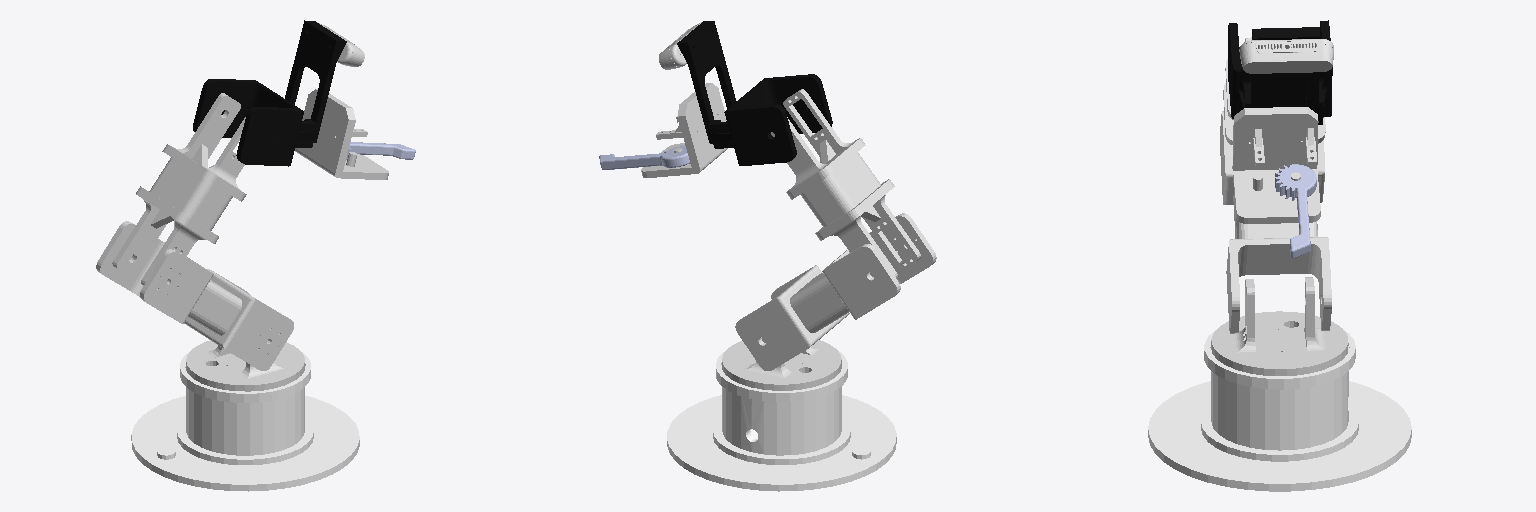
robot.urdf — Reference_Assembly44:
<?xml version="1.0" encoding="utf-8"?>
<!-- This URDF was automatically created by SolidWorks to URDF Exporter! Originally created by Stephen Brawner (brawner@gmail.com) 
     Commit Version: 1.6.0-4-g7f85cfe  Build Version: 1.6.7995.38578
     For more information, please see http://wiki.ros.org/sw_urdf_exporter -->
<robot
  name="Reference_Assembly44">
  <link
    name="base_link">
    <inertial>
      <origin
        xyz="-0.00054420381837245 -0.000172092180119688 0.0289764153009481"
        rpy="0 0 0" />
      <mass
        value="0.74995511898166" />
      <inertia
        ixx="0.00300881122224017"
        ixy="7.04505730019346E-08"
        ixz="3.98409686242448E-06"
        iyy="0.00305676569031836"
        iyz="7.77591095594485E-07"
        izz="0.00471570695756845" />
    </inertial>
    <visual>
      <origin
        xyz="0 0 0"
        rpy="0 0 0" />
      <geometry>
        <mesh
          filename="package://arm_description/meshes/base_link.STL" />
      </geometry>
      <material
        name="">
        <color
          rgba="1 1 1 0.35" />
      </material>
    </visual>
    <collision>
      <origin
        xyz="0 0 0"
        rpy="0 0 0" />
      <geometry>
        <mesh
          filename="package://arm_description/meshes/base_link.STL" />
      </geometry>
    </collision>
  </link>
  <link
    name="Shoulder_R">
    <inertial>
      <origin
        xyz="0.000403078883638784 0.00970799426762278 -0.00104712514433428"
        rpy="0 0 0" />
      <mass
        value="0.154107089212603" />
      <inertia
        ixx="0.000188059857849138"
        ixy="2.92431537638015E-07"
        ixz="7.40368791297859E-07"
        iyy="0.000299228678844809"
        iyz="5.72855168293749E-06"
        izz="0.000169291903518765" />
    </inertial>
    <visual>
      <origin
        xyz="0 0 0"
        rpy="0 0 0" />
      <geometry>
        <mesh
          filename="package://arm_description/meshes/Shoulder_R.STL" />
      </geometry>
      <material
        name="">
        <color
          rgba="0.894117647058823 0.894117647058823 0.894117647058823 1" />
      </material>
    </visual>
    <collision>
      <origin
        xyz="0 0 0"
        rpy="0 0 0" />
      <geometry>
        <mesh
          filename="package://arm_description/meshes/Shoulder_R.STL" />
      </geometry>
    </collision>
  </link>
  <joint
    name="J1"
    type="revolute">
    <origin
      xyz="0 0 0.09"
      rpy="1.5707963267949 0 0.0586972407572865" />
    <parent
      link="base_link" />
    <child
      link="Shoulder_R" />
    <axis
      xyz="0 1 0" />
    <limit
      lower="-2.0944"
      upper="2.0944"
      effort="0"
      velocity="0" />
  </joint>
  <link
    name="Shoulder">
    <inertial>
      <origin
        xyz="-1.53478323106082E-09 0.0844250188331954 3.22156832380707E-05"
        rpy="0 0 0" />
      <mass
        value="0.340539325104864" />
      <inertia
        ixx="0.000556762872289463"
        ixy="4.07473819525691E-12"
        ixz="8.54437238413582E-12"
        iyy="0.000512047037475982"
        iyz="5.25935355125329E-12"
        izz="0.000269464543142404" />
    </inertial>
    <visual>
      <origin
        xyz="0 0 0"
        rpy="0 0 0" />
      <geometry>
        <mesh
          filename="package://arm_description/meshes/Shoulder.STL" />
      </geometry>
      <material
        name="">
        <color
          rgba="0.894117647058823 0.894117647058823 0.894117647058823 1" />
      </material>
    </visual>
    <collision>
      <origin
        xyz="0 0 0"
        rpy="0 0 0" />
      <geometry>
        <mesh
          filename="package://arm_description/meshes/Shoulder.STL" />
      </geometry>
    </collision>
  </link>
  <joint
    name="J2"
    type="revolute">
    <origin
      xyz="0 0.0511999999999999 0"
      rpy="0 0 0.893580588759203" />
    <parent
      link="Shoulder_R" />
    <child
      link="Shoulder" />
    <axis
      xyz="0 0 1" />
    <limit
      lower="-2.5"
      upper="0.7"
      effort="0"
      velocity="0" />
  </joint>
  <link
    name="Elbow">
    <inertial>
      <origin
        xyz="2.18340928670457E-09 -0.104152763907058 -0.00147790913644874"
        rpy="0 0 0" />
      <mass
        value="0.369913477199193" />
      <inertia
        ixx="0.000448543441141068"
        ixy="-1.33091212899539E-11"
        ixz="4.35205538463655E-11"
        iyy="0.000371699137777268"
        iyz="-7.60819728246898E-06"
        izz="0.000271309304104362" />
    </inertial>
    <visual>
      <origin
        xyz="0 0 0"
        rpy="0 0 0" />
      <geometry>
        <mesh
          filename="package://arm_description/meshes/Elbow.STL" />
      </geometry>
      <material
        name="">
        <color
          rgba="0.894117647058823 0.894117647058823 0.894117647058823 1" />
      </material>
    </visual>
    <collision>
      <origin
        xyz="0 0 0"
        rpy="0 0 0" />
      <geometry>
        <mesh
          filename="package://arm_description/meshes/Elbow.STL" />
      </geometry>
    </collision>
  </link>
  <joint
    name="J3"
    type="revolute">
    <origin
      xyz="0 0.16885 0"
      rpy="0 0 1.54911502956067" />
    <parent
      link="Shoulder" />
    <child
      link="Elbow" />
    <axis
      xyz="0 0 -1" />
    <limit
      lower="-3.5416"
      upper="0.55"
      effort="0"
      velocity="0" />
  </joint>
  <link
    name="Wrist_R">
    <inertial>
      <origin
        xyz="-0.0158612226698731 0.0445038516191795 0.000137996415897841"
        rpy="0 0 0" />
      <mass
        value="0.173342751912655" />
      <inertia
        ixx="0.00028758990024656"
        ixy="9.7200200727186E-07"
        ixz="1.15473874947255E-10"
        iyy="0.000282438297669058"
        iyz="7.80579863100199E-07"
        izz="0.000168320034211443" />
    </inertial>
    <visual>
      <origin
        xyz="0 0 0"
        rpy="0 0 0" />
      <geometry>
        <mesh
          filename="package://arm_description/meshes/Wrist_R.STL" />
      </geometry>
      <material
        name="">
        <color
          rgba="0.101960784313725 0.101960784313725 0.101960784313725 1" />
      </material>
    </visual>
    <collision>
      <origin
        xyz="0 0 0"
        rpy="0 0 0" />
      <geometry>
        <mesh
          filename="package://arm_description/meshes/Wrist_R.STL" />
      </geometry>
    </collision>
  </link>
  <joint
    name="J4"
    type="revolute">
    <origin
      xyz="0 -0.1874 0"
      rpy="0 0 1.983" />
    <parent
      link="Elbow" />
    <child
      link="Wrist_R" />
    <axis
      xyz="0 0 1" />
    <limit
      lower="-1.131"
      upper="3.0543"
      effort="0"
      velocity="0" />
  </joint>
  <link
    name="Wrist_P">
    <inertial>
      <origin
        xyz="0.000310689346636155 -0.0180061019798506 0.0149193001086836"
        rpy="0 0 0" />
      <mass
        value="0.110477012892495" />
      <inertia
        ixx="0.000118444279287865"
        ixy="-7.42899071361453E-07"
        ixz="-9.87118985636998E-08"
        iyy="0.00011372480104977"
        iyz="3.40221106402442E-05"
        izz="0.000120723878819873" />
    </inertial>
    <visual>
      <origin
        xyz="0 0 0"
        rpy="0 0 0" />
      <geometry>
        <mesh
          filename="package://arm_description/meshes/Wrist_P.STL" />
      </geometry>
      <material
        name="">
        <color
          rgba="0.894117647058823 0.894117647058823 0.894117647058823 1" />
      </material>
    </visual>
    <collision>
      <origin
        xyz="0 0 0"
        rpy="0 0 0" />
      <geometry>
        <mesh
          filename="package://arm_description/meshes/Wrist_P.STL" />
      </geometry>
    </collision>
  </link>
  <joint
    name="J5"
    type="revolute">
    <origin
      xyz="0 0.11716 0.01"
      rpy="-1.5708 1.5692 0" />
    <parent
      link="Wrist_R" />
    <child
      link="Wrist_P" />
    <axis
      xyz="0 0 1" />
    <limit
      lower="-5"
      upper="5"
      effort="0"
      velocity="0" />
  </joint>
  <link
    name="Gripper">
    <inertial>
      <origin
        xyz="-0.028999998744641 0.040216829296616 0.0199817101036695"
        rpy="0 0 0" />
      <mass
        value="0.0234587021381431" />
      <inertia
        ixx="3.47460384230843E-05"
        ixy="-1.54803392439047E-13"
        ixz="-3.47615457939314E-14"
        iyy="1.70981131636221E-06"
        iyz="1.38472450368426E-07"
        izz="3.35817044614761E-05" />
    </inertial>
    <visual>
      <origin
        xyz="0 0 0"
        rpy="0 0 0" />
      <geometry>
        <mesh
          filename="package://arm_description/meshes/Gripper.STL" />
      </geometry>
      <material
        name="">
        <color
          rgba="0.792156862745098 0.819607843137255 0.933333333333333 1" />
      </material>
    </visual>
    <collision>
      <origin
        xyz="0 0 0"
        rpy="0 0 0" />
      <geometry>
        <mesh
          filename="package://arm_description/meshes/Gripper.STL" />
      </geometry>
    </collision>
  </link>
  <joint
    name="J6"
    type="revolute">
    <origin
      xyz="0 0 0.018905"
      rpy="1.5641 0 1.5708" />
    <parent
      link="Wrist_P" />
    <child
      link="Gripper" />
    <axis
      xyz="1 0 0" />
    <limit
      lower="-5"
      upper="5"
      effort="0"
      velocity="0" />
  </joint>
  <link
    name="Camera">
    <inertial>
      <origin
        xyz="0.000246315098365265 -6.05366355121983E-05 -0.0130483956964289"
        rpy="0 0 0" />
      <mass
        value="0.0447531077608532" />
      <inertia
        ixx="3.94470378773003E-06"
        ixy="-2.79120512245854E-09"
        ixz="2.44349448629853E-07"
        iyy="2.73619877127596E-05"
        iyz="-1.16714597103348E-09"
        izz="2.727742454869E-05" />
    </inertial>
    <visual>
      <origin
        xyz="0 0 0"
        rpy="0 0 3.14159" />
      <geometry>
        <mesh
          filename="package://arm_description/meshes/Camera.STL" />
      </geometry>
      <material
        name="">
        <color
          rgba="0.894117647058823 0.894117647058823 0.894117647058823 1" />
      </material>
    </visual>
    <collision>
      <origin
        xyz="0 0 0"
        rpy="0 0 3.14159" />
      <geometry>
        <mesh
          filename="package://arm_description/meshes/Camera.STL" />
      </geometry>
    </collision>
  </link>
  <joint
    name="J7"
    type="fixed">
    <origin
      xyz="-0.0905287301159827 0.116422510562616 0"
      rpy="1.56723445405752 1.57079631189374 2.87502839714336" />
    <parent
      link="Wrist_R" />
    <child
      link="Camera" />
    <axis
      xyz="0 0 0" />
   </joint>
</robot>

--- Render facts (derived) ---
3 views of the same robot in one strip: view 1: azimuth 30°, elevation 25°; view 2: azimuth 150°, elevation 25°; view 3: azimuth 270°, elevation 25° (orthographic).
Model Reference_Assembly44 with 8 links and 7 joints (6 revolute, 1 fixed), rooted at base_link, posed every joint at zero.
Visible links, largest first — view 1: base_link, Shoulder, Elbow, Wrist_R, Shoulder_R, Wrist_P, Gripper, Camera; view 2: base_link, Shoulder, Elbow, Wrist_R, Shoulder_R, Wrist_P, Gripper, Camera; view 3: base_link, Wrist_P, Shoulder_R, Shoulder, Wrist_R, Camera, Gripper, Elbow.
Boxes of the visible links, <box> form: base_link: <box>131,352,359,491</box>; Shoulder: <box>96,221,293,370</box>; Elbow: <box>112,93,246,285</box>; Wrist_R: <box>193,20,346,166</box>; Shoulder_R: <box>186,340,304,391</box>; Wrist_P: <box>295,89,388,179</box>; Gripper: <box>346,142,415,159</box>; Camera: <box>317,22,364,66</box>; base_link: <box>667,352,896,491</box>; Shoulder: <box>735,213,936,370</box>; Elbow: <box>771,89,920,277</box>; Wrist_R: <box>677,21,832,165</box>; Shoulder_R: <box>722,338,841,390</box>; Wrist_P: <box>641,83,727,177</box>; Gripper: <box>599,145,689,169</box>; Camera: <box>659,22,701,69</box>; base_link: <box>1148,330,1411,491</box>; Wrist_P: <box>1232,107,1320,223</box>; Shoulder_R: <box>1211,277,1347,375</box>; Shoulder: <box>1220,111,1331,333</box>; Wrist_R: <box>1228,20,1332,124</box>; Camera: <box>1239,39,1333,73</box>; Gripper: <box>1275,164,1316,258</box>; Elbow: <box>1223,37,1325,144</box>.
Bounding box of the posed robot: 0.3884 × 0.25 × 0.4725 m (x, y, z).
Meshes: 8 distinct files referenced, 8 mesh visuals loaded (8 binary STL).
